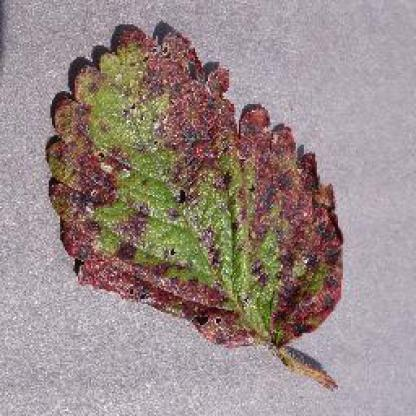leaf scorch: (36, 8, 367, 398)
